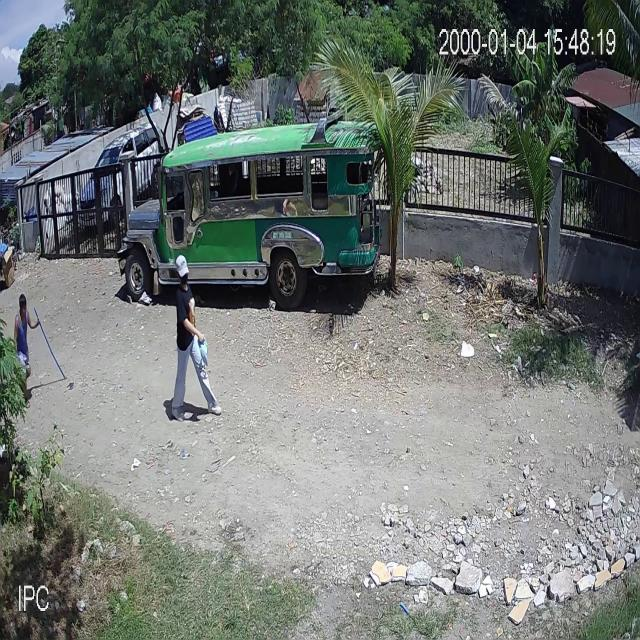running: (12, 293, 65, 408)
walking: (174, 255, 221, 419)
